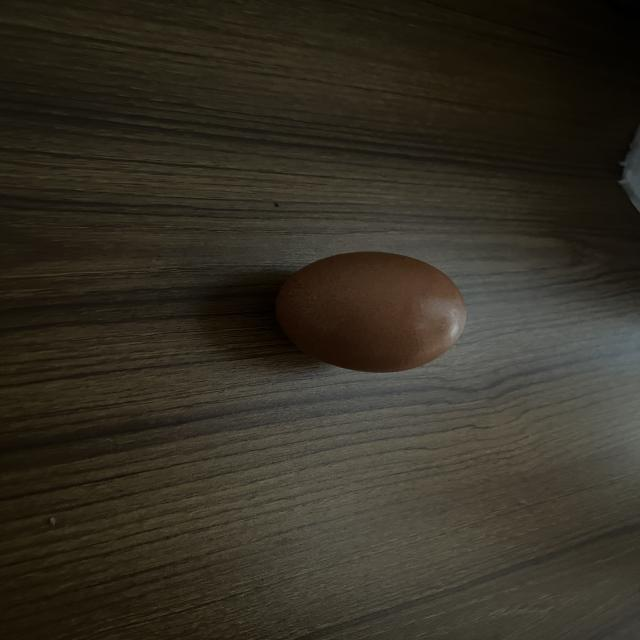egg: (274, 242, 473, 388)
